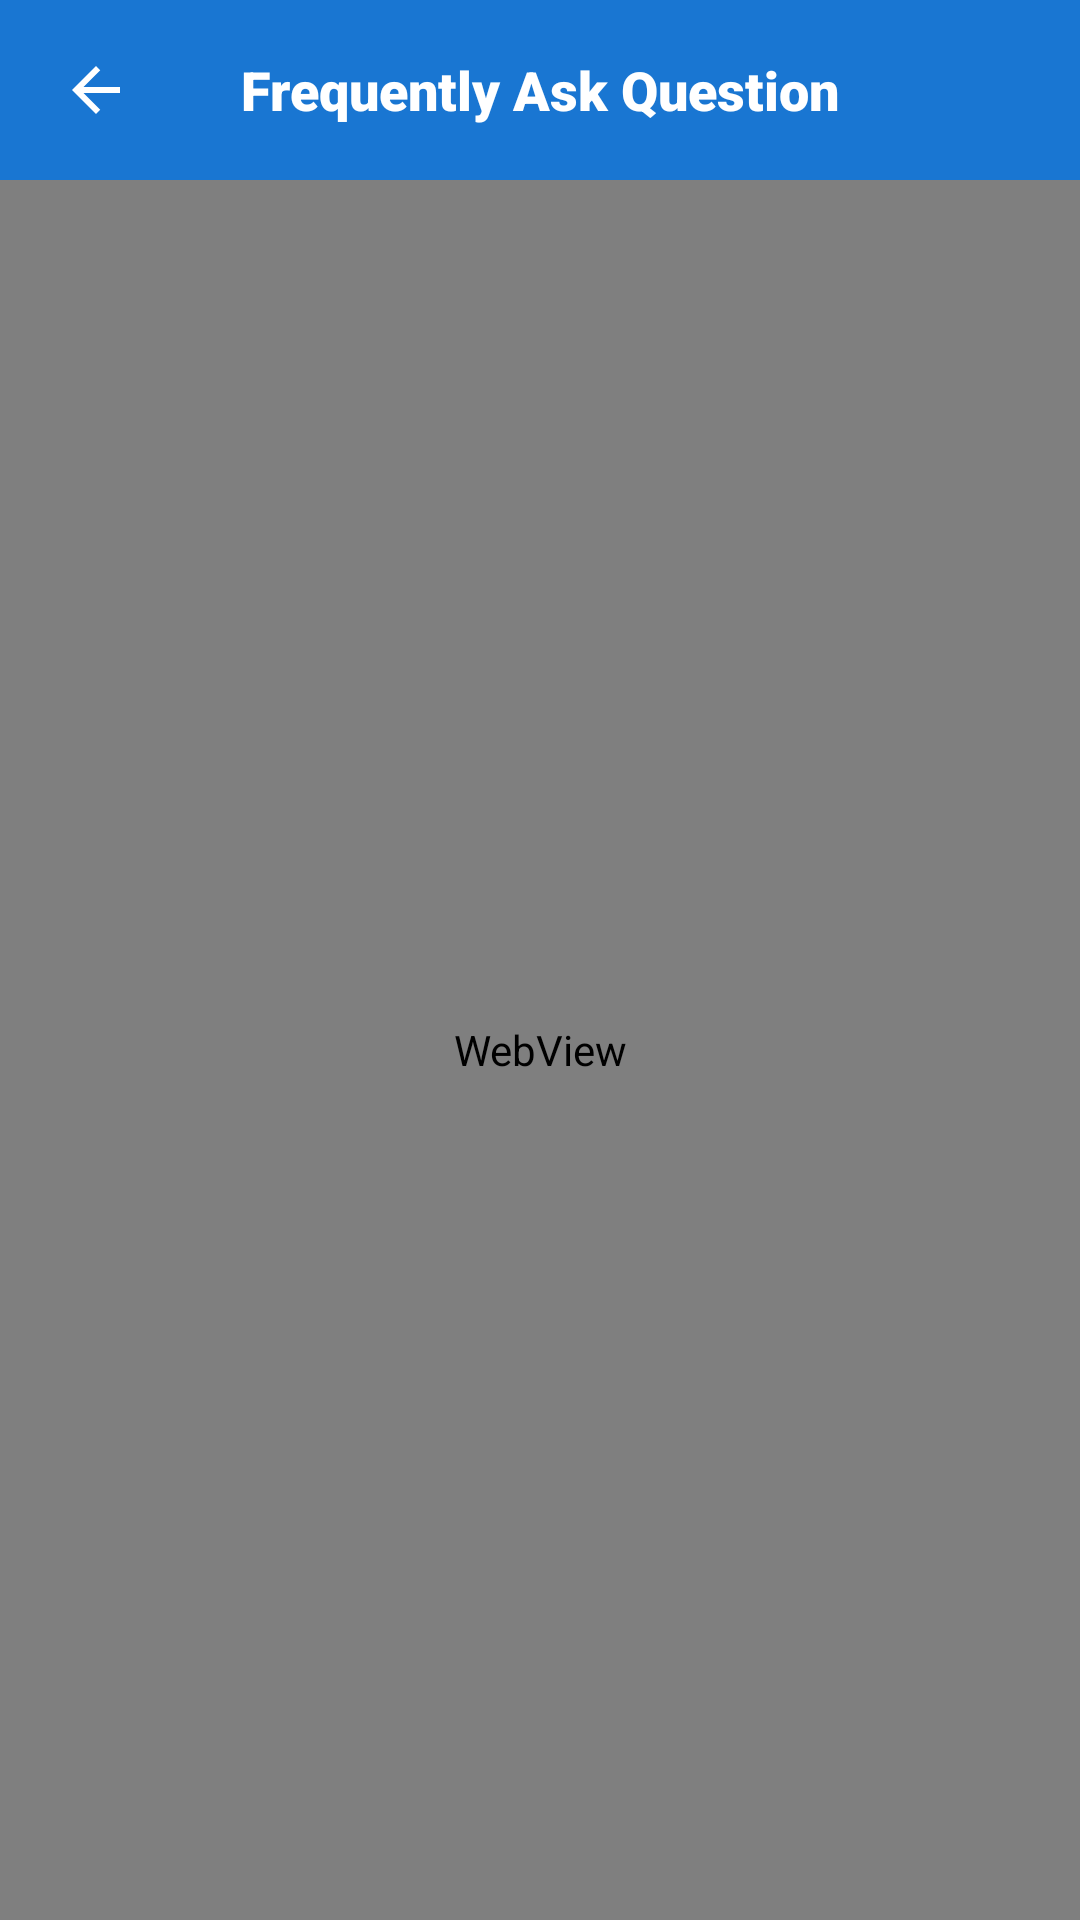

Icon bounding boxes for this 1080×1920 phone screenshot, format (x1, y1, x2, y2):
arrow back: (72, 66, 120, 114)
